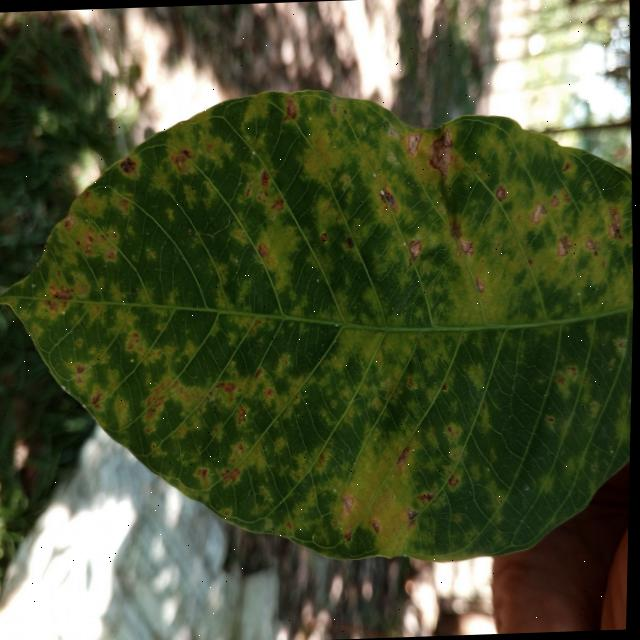Colletotrichum: (322, 232, 328, 240)
Leaf-Blight: (427, 128, 454, 175), (532, 201, 548, 224), (407, 133, 424, 154), (408, 238, 423, 260), (462, 240, 475, 255)
